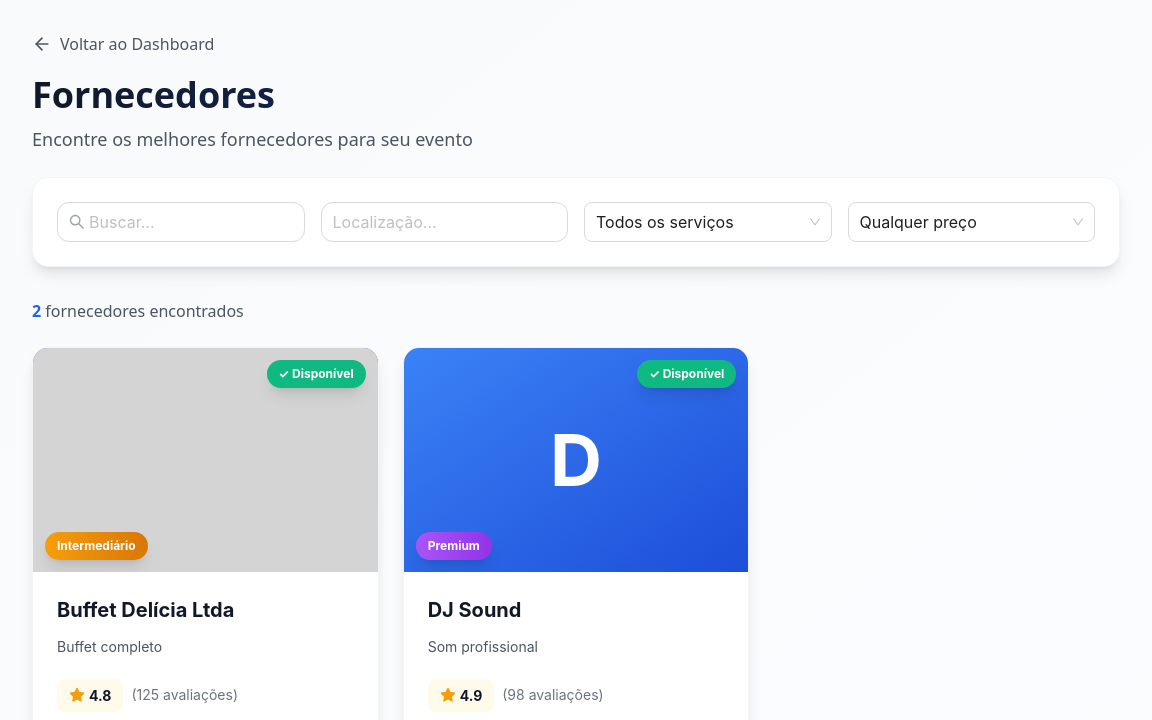
it: Suppliers › should filter suppliers by location
The image size is (1152, 720).
Expected: the heading "Buffet Delícia Ltda" is shown, [57,598,234,622]
Type "Rio de Janeiro" into the field with placeholder "Localização..." at (444, 222), box [320,202,568,242]
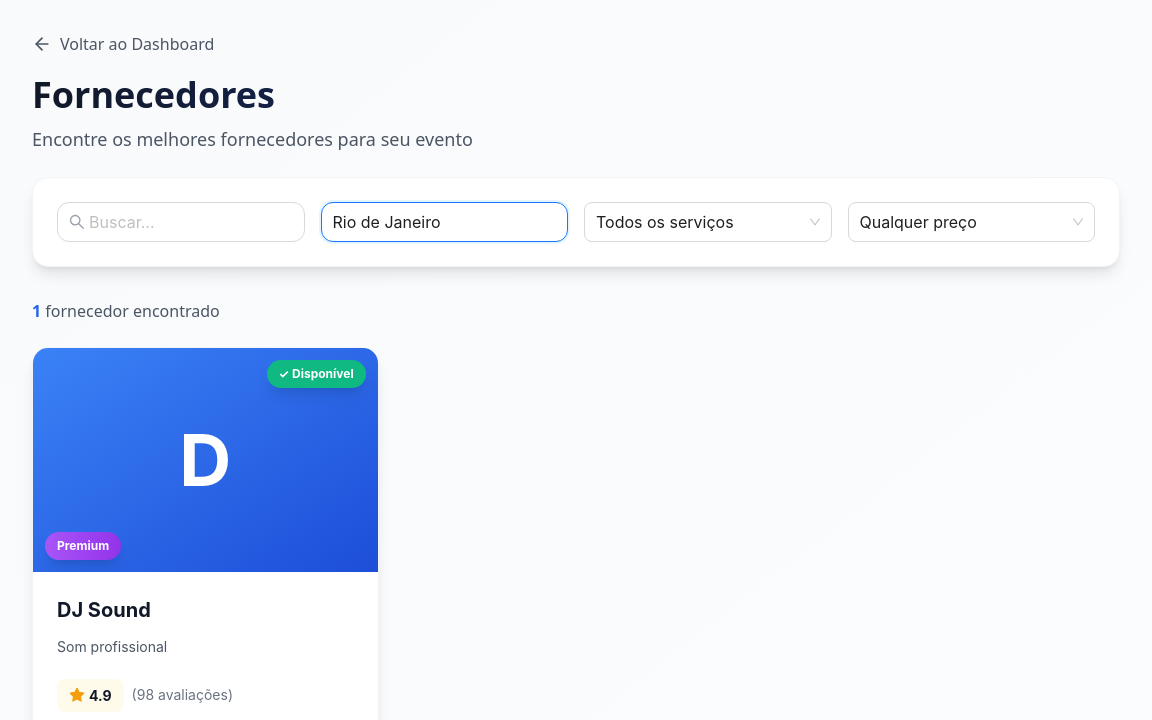
Expected: the heading "DJ Sound" is shown, [57,598,151,622]
Expected: the heading "Buffet Delícia Ltda" is gone
